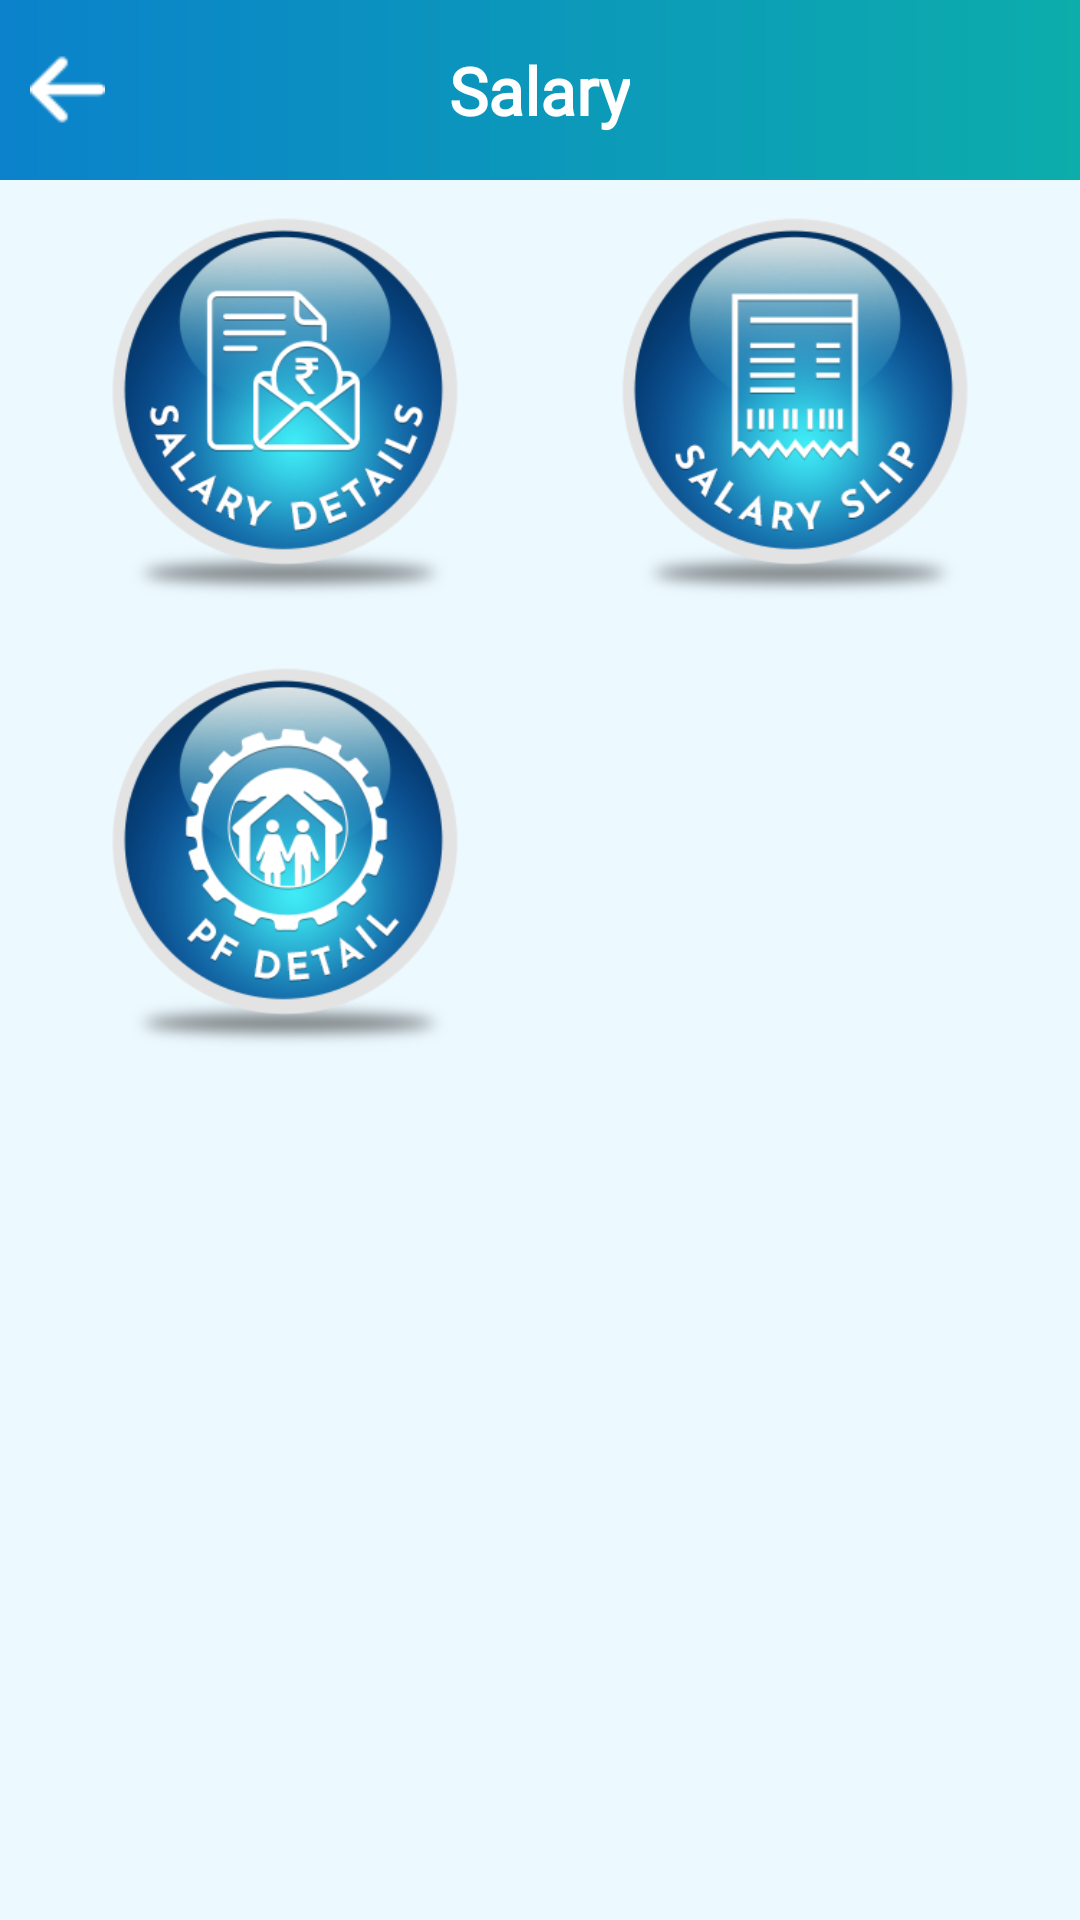

Locate icon controls on the screen. Image size 1080 × 1920, boxes as [x1, y1, x2, y2].
back arrow: [30, 56, 105, 123]
